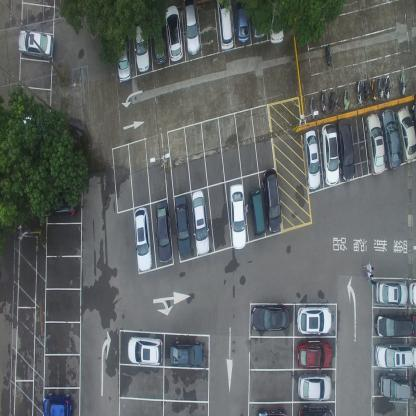car: (380, 108, 402, 170), (261, 166, 280, 233), (366, 111, 386, 174), (192, 189, 210, 256), (134, 206, 152, 272), (251, 302, 290, 332), (301, 130, 320, 191), (229, 182, 246, 250), (337, 117, 355, 181), (155, 199, 173, 263), (395, 106, 415, 163), (296, 338, 331, 370), (320, 124, 338, 186), (127, 335, 164, 365), (18, 29, 53, 60), (175, 194, 192, 257), (150, 3, 167, 66), (298, 370, 332, 401), (296, 305, 332, 334), (166, 5, 184, 61), (374, 343, 414, 368), (133, 10, 149, 72), (216, 0, 234, 52), (116, 24, 132, 82), (378, 371, 410, 400), (375, 312, 412, 337), (170, 340, 204, 367), (46, 188, 78, 216), (184, 2, 200, 58), (375, 279, 408, 306), (248, 186, 266, 235), (267, 0, 284, 47), (234, 0, 250, 45), (42, 393, 72, 415), (250, 0, 265, 40), (298, 403, 333, 415), (257, 405, 287, 415), (408, 280, 416, 306), (411, 314, 416, 337)
